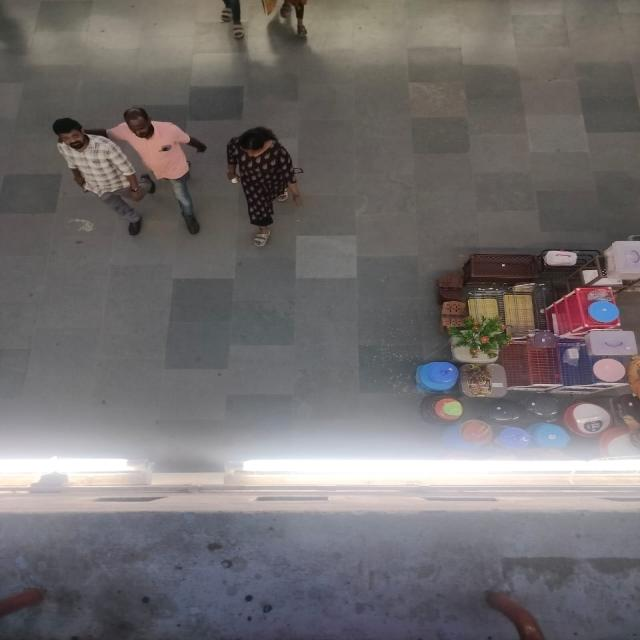humans: (47, 113, 148, 247), (123, 103, 216, 242), (222, 125, 308, 254)
